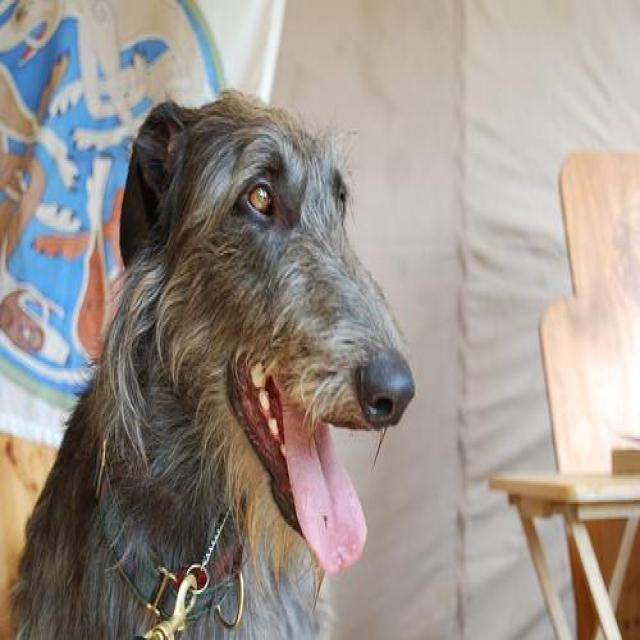irish_wolfhound: (12, 92, 414, 638)
